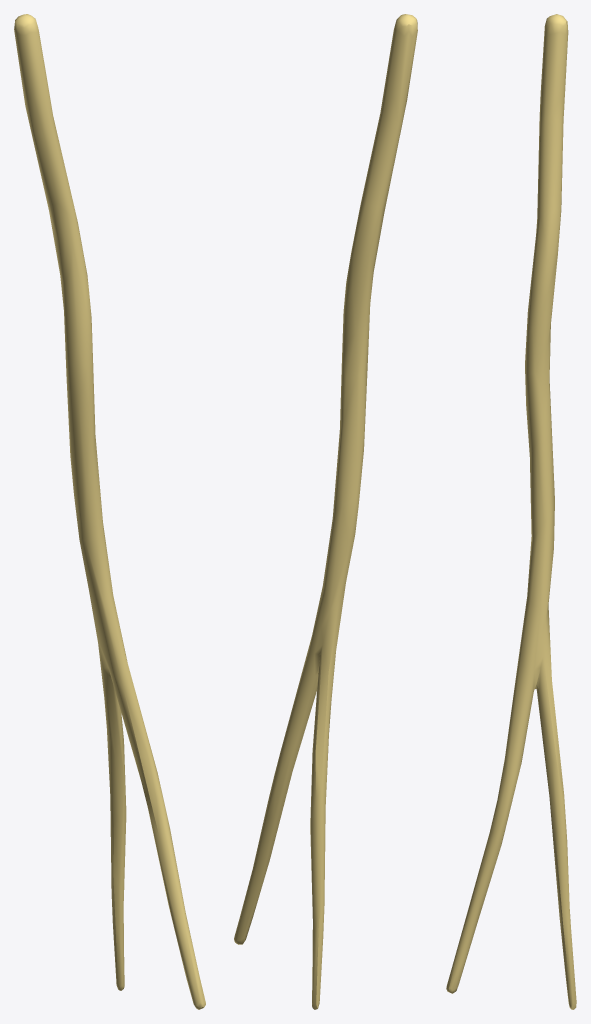
Rendered from fma52592_fj4013.glb.
3 renders of one model, left to right at view 1: azimuth 30°, elevation 25°; view 2: azimuth 210°, elevation 25°; view 3: azimuth 270°, elevation 25°, orthographic. The views are drawn at different scales.
Parts seen in each view (by area): view 1: FMA52592_FJ4013; view 2: FMA52592_FJ4013; view 3: FMA52592_FJ4013.
Boxes of the visible parts, x1,y1,x2,y2 form: FMA52592_FJ4013: [14, 14, 205, 1009]; FMA52592_FJ4013: [234, 14, 417, 1009]; FMA52592_FJ4013: [446, 14, 576, 1009].
Bounding box in the file's own units: 0.00356 × 0.0255 × 0.00318.
